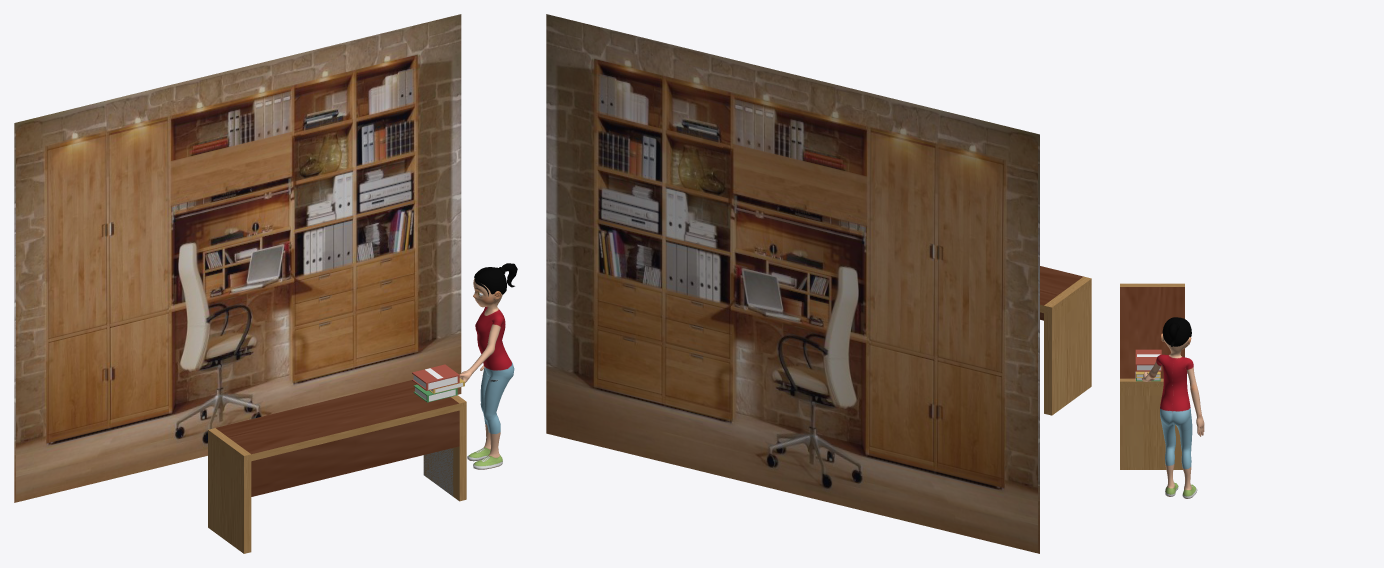
File: bookFriction4.dae
3 renders of one model, left to right at view 1: azimuth 30°, elevation 25°; view 2: azimuth 150°, elevation 25°; view 3: azimuth 270°, elevation 25°, orthographic. The views are drawn at different scales.
Parts seen in each view (by area): view 1: backwall1, desk, polySurface1 (×2), thermodynamics_book; view 2: backwall1, desk; view 3: desk, polySurface1 (×2), thermodynamics_book.
Part boxes in pixels (x1=…): backwall1: x1=14, y1=14, x2=461, y2=502; desk: x1=208, y1=380, x2=466, y2=553; polySurface1 (×2): x1=459, y1=263, x2=517, y2=469; thermodynamics_book: x1=412, y1=364, x2=459, y2=390; backwall1: x1=546, y1=14, x2=1039, y2=553; desk: x1=1040, y1=266, x2=1091, y2=415; desk: x1=1120, y1=283, x2=1184, y2=469; polySurface1 (×2): x1=1142, y1=317, x2=1204, y2=498; thermodynamics_book: x1=1135, y1=349, x2=1161, y2=371.
Bounding box in the file's own units: 6.76 × 5.49 × 3.62.
